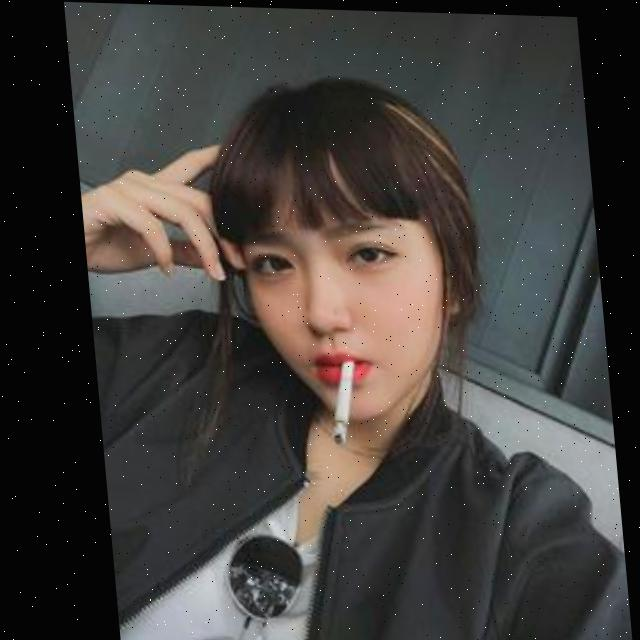cigarette: (317, 355, 351, 443)
